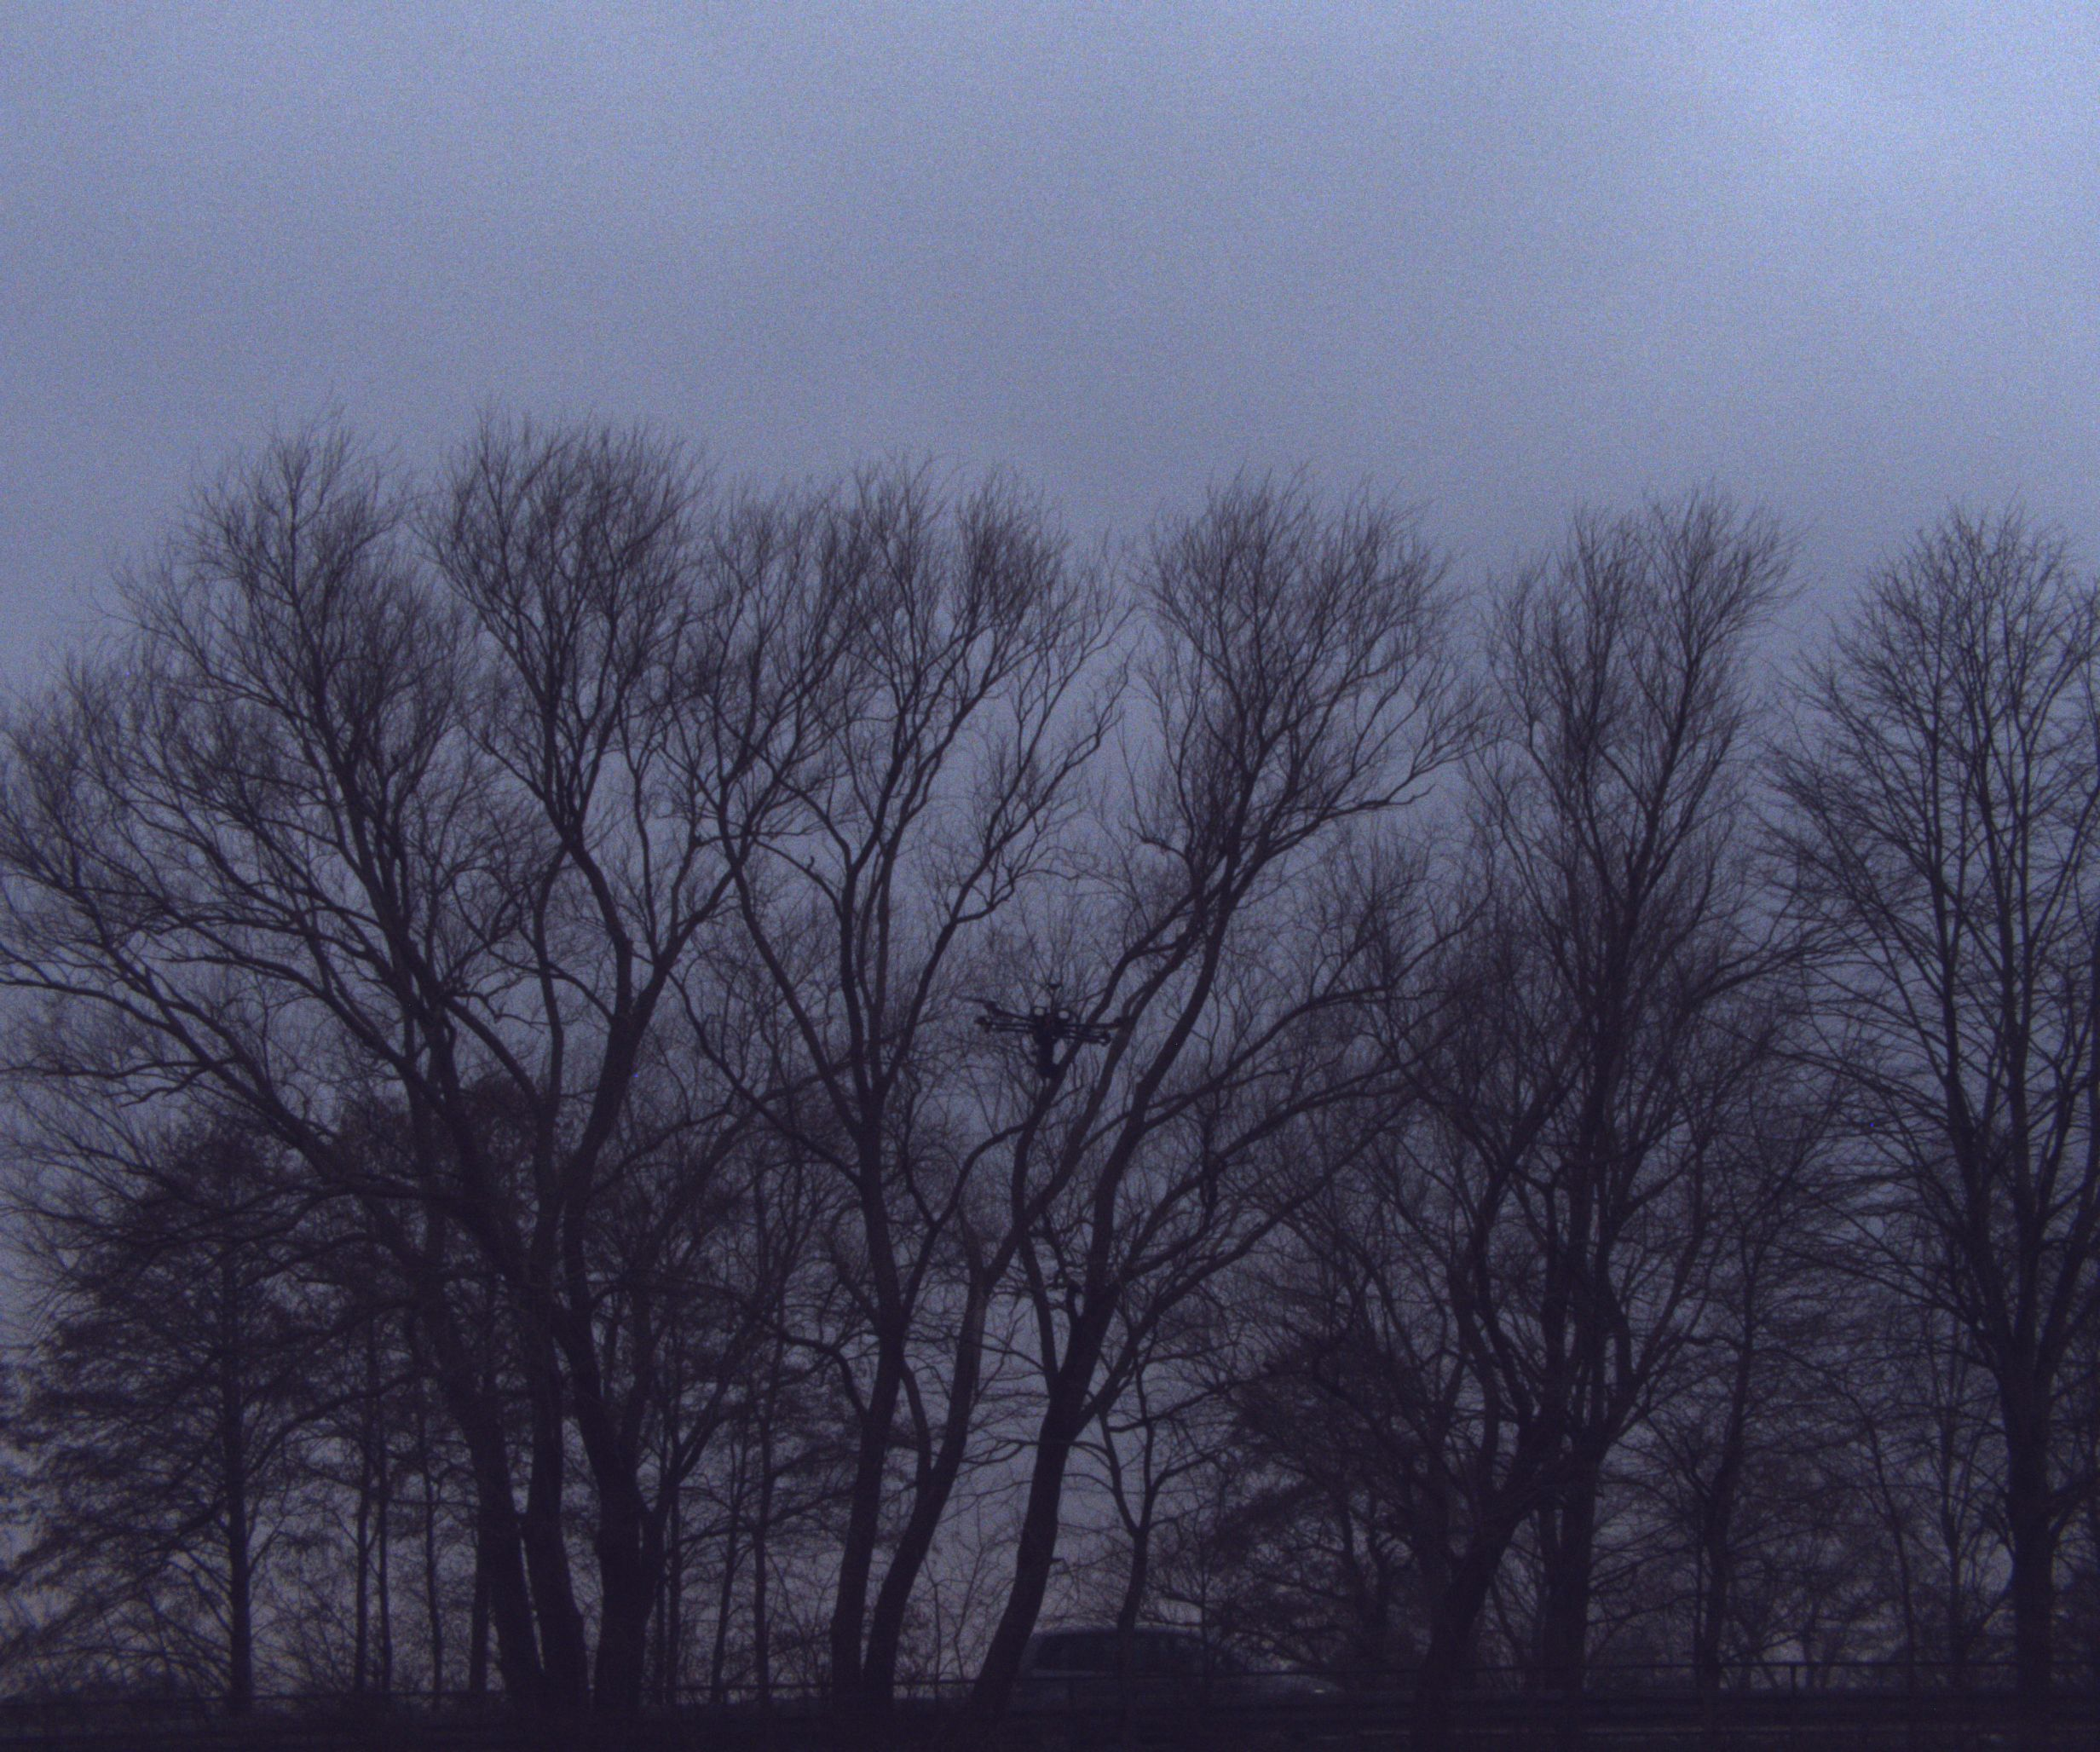Drohne: (907, 954, 1170, 1112)
